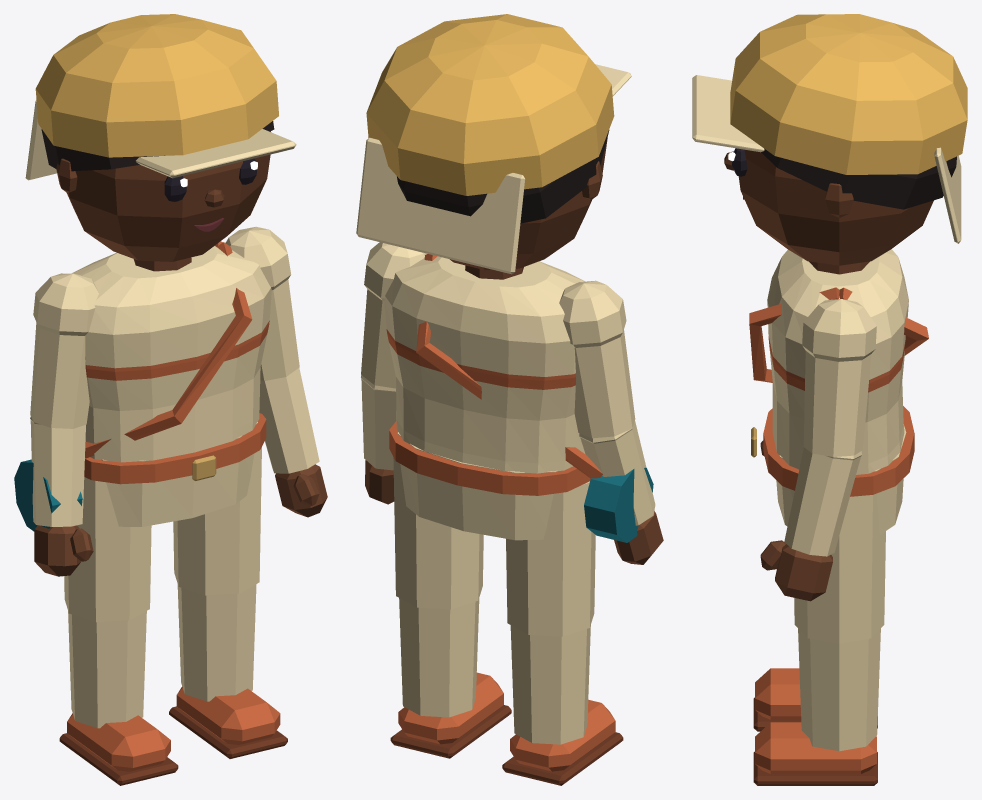
File: dun-n2.glb
The picture shows the model from 3 angles, left to right: view 1: azimuth 30°, elevation 25°; view 2: azimuth 150°, elevation 25°; view 3: azimuth 270°, elevation 25°; orthographic projection.
Visible parts, largest first — view 1: kopfbedeckung, torso, bein_r, bein_l, kopf, arm_r, arm_l, becken, schuh_l, schuh_r, accessoire_canteen, gürtel (+4 smaller); view 2: kopfbedeckung, torso, bein_r, bein_l, arm_r, arm_l, becken, accessoire_canteen, gürtel, schuh_l, schuh_r, haare (+3 smaller); view 3: kopfbedeckung, bein_l, torso, arm_l, kopf, schuh_l, haare, gürtel, hand_l, schuh_r, accessoire_canteen, becken (+2 smaller).
Part boxes in pixels (x1,y1,x2,y2): kopfbedeckung: (25, 14, 296, 180); torso: (72, 242, 271, 462); bein_r: (64, 477, 151, 728); bein_l: (173, 447, 261, 701); kopf: (56, 131, 270, 261); arm_r: (30, 273, 98, 526); arm_l: (225, 226, 319, 473); becken: (101, 422, 257, 526); schuh_l: (169, 686, 287, 758); schuh_r: (59, 713, 178, 785); accessoire_canteen: (14, 241, 252, 531); gürtel: (84, 413, 266, 484); kopfbedeckung: (356, 14, 631, 274); torso: (384, 256, 585, 473); bein_r: (506, 481, 595, 744); bein_l: (393, 457, 483, 717); arm_r: (559, 280, 655, 525); arm_l: (361, 242, 427, 470); becken: (397, 432, 557, 540); accessoire_canteen: (416, 254, 653, 542); gürtel: (389, 421, 590, 495); schuh_l: (390, 672, 511, 758); schuh_r: (502, 699, 623, 785); haare: (397, 130, 609, 223); kopfbedeckung: (692, 14, 967, 243); bein_l: (794, 493, 885, 751); torso: (767, 249, 908, 474); arm_l: (784, 299, 876, 556); kopf: (738, 149, 933, 265); schuh_l: (753, 722, 877, 785); haare: (761, 148, 956, 209); gürtel: (751, 406, 914, 496); hand_l: (760, 540, 832, 601); schuh_r: (753, 668, 877, 731); accessoire_canteen: (749, 287, 928, 382); becken: (776, 424, 906, 534).
Size of the model in its own units: 0.0102 by 0.0243 by 0.00849.
